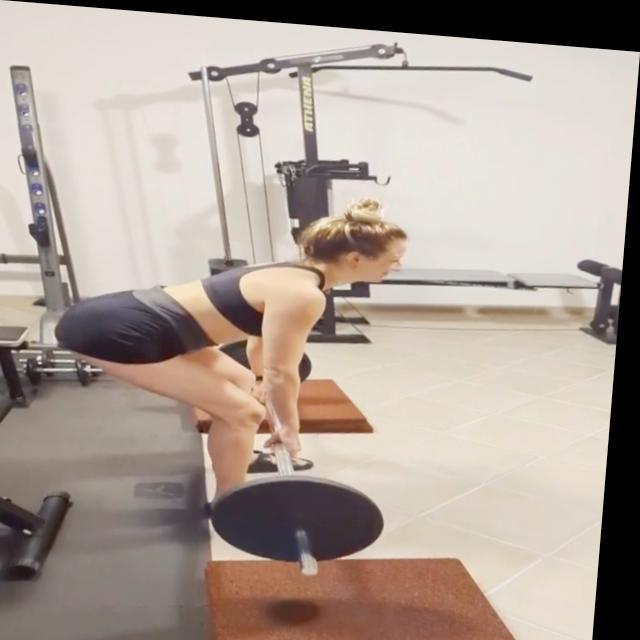barbell: (210, 459, 402, 579)
